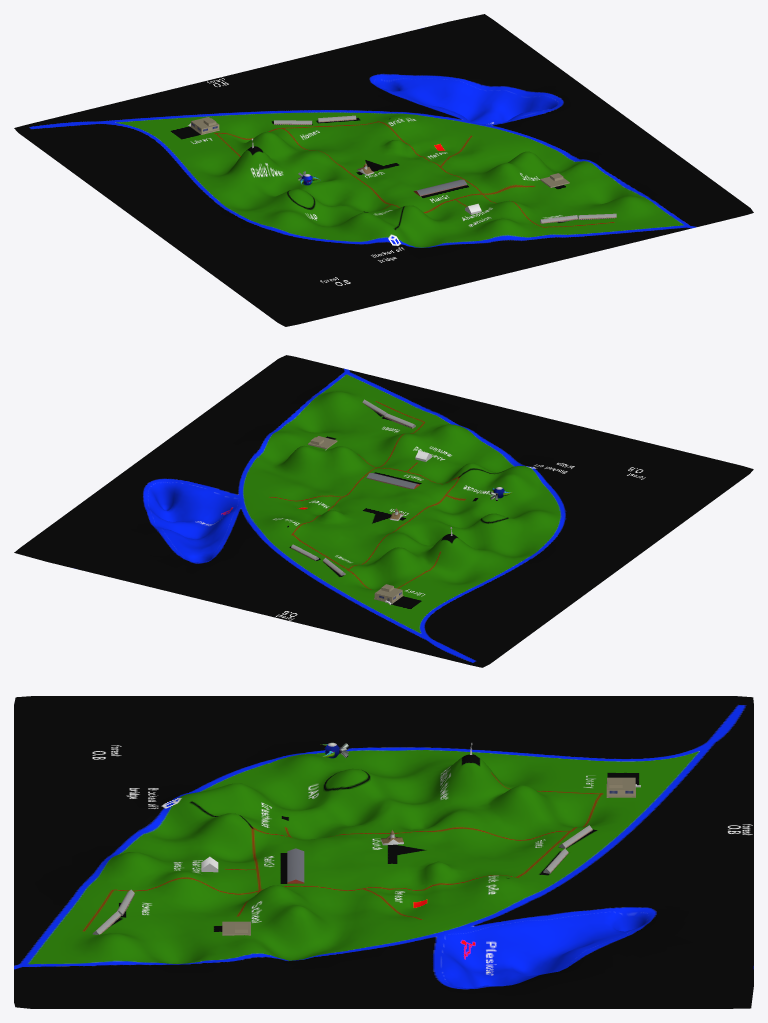
The model's file is map3.fbx.
The picture shows the model from 3 angles, top to bottom: view 1: azimuth 30°, elevation 25°; view 2: azimuth 150°, elevation 25°; view 3: azimuth 270°, elevation 25°; orthographic projection. The views are drawn at different scales.
Visible parts, largest first — view 1: Plane001; view 2: Plane001; view 3: Plane001, Box040, Box047.
Boxes of the visible parts, <box> form: Plane001: <box>14,14,753,326</box>; Plane001: <box>14,355,753,667</box>; Plane001: <box>14,696,753,1008</box>; Box040: <box>287,848,304,883</box>; Box047: <box>607,777,635,795</box>.
Size of the model in its own units: 82944 by 10080 by 82944.
